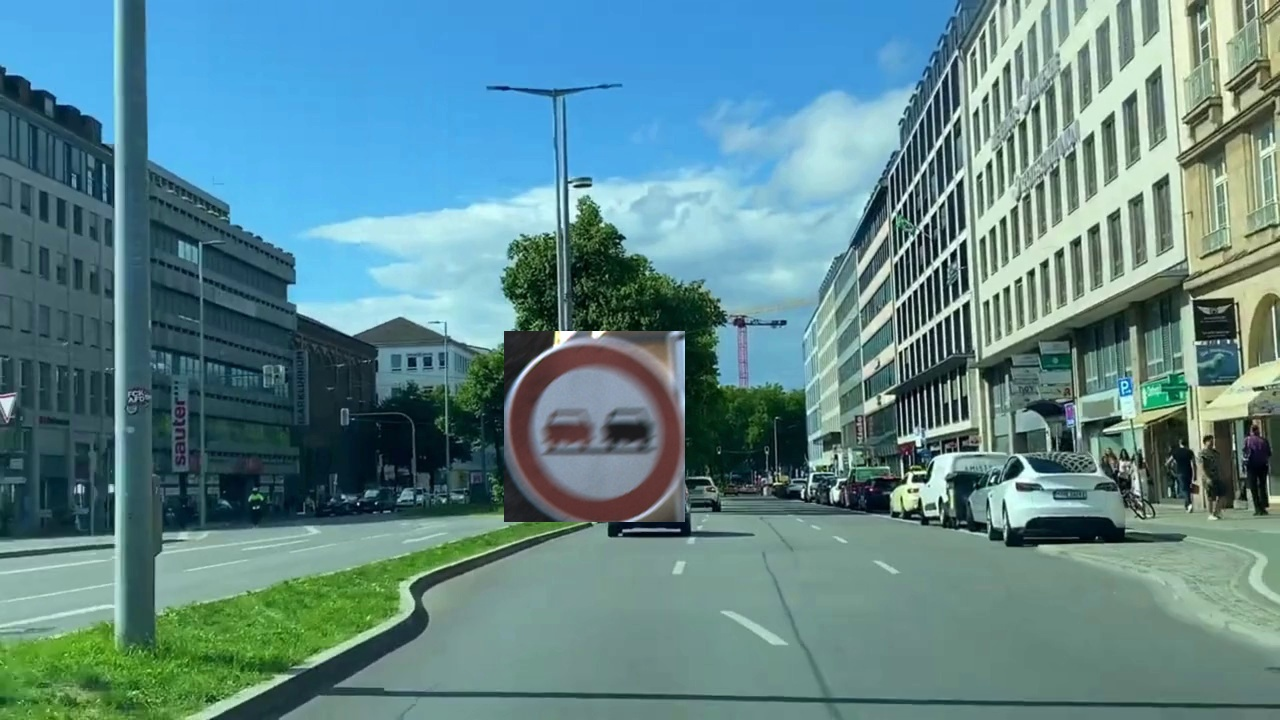No passing: (504, 331, 685, 522)
